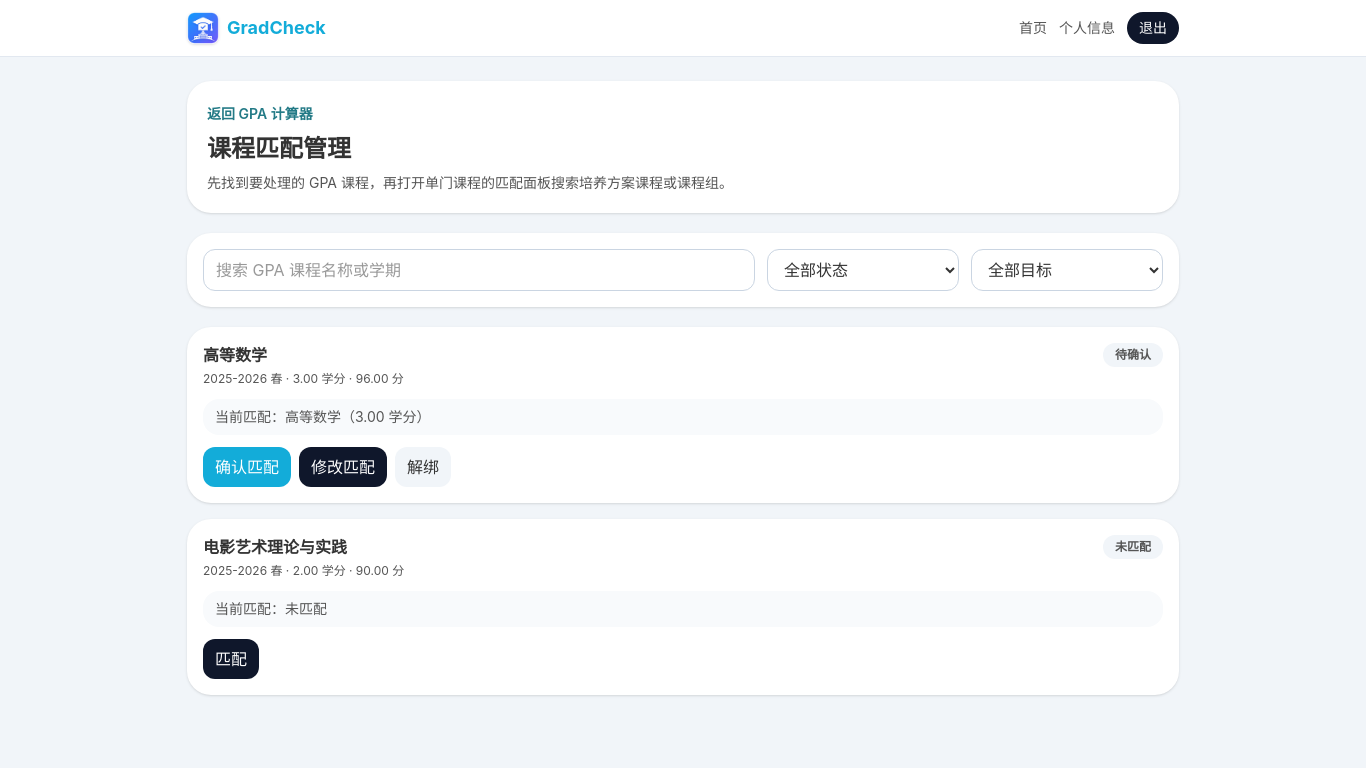
GpaCourseMatchesPage › treats unconfirmed automatic matches as pending review
Expected: the element with test id "gpa-match-list" shows "待确认", [1115, 347, 1151, 362]
Step 1. Select "待处理" in the dropdown with test id "gpa-match-status-filter" → point(863, 270), box [767, 249, 959, 291]
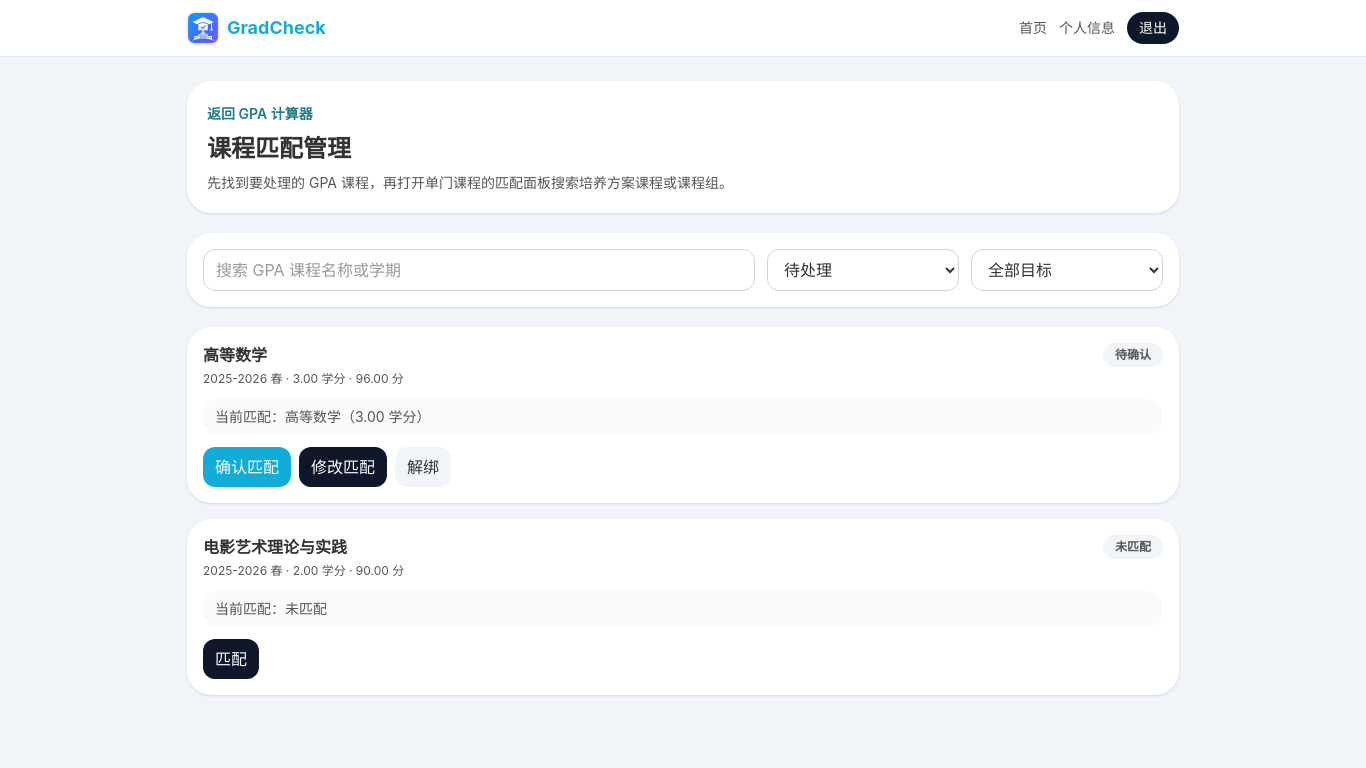
Expected: the element with test id "gpa-match-list" shows "高等数学", [203, 345, 267, 365]
Expected: the element with test id "gpa-match-list" shows "电影艺术理论与实践", [203, 537, 347, 557]
Step 2. Select "已确认" in the dropdown with test id "gpa-match-status-filter" → point(863, 270), box [767, 249, 959, 291]
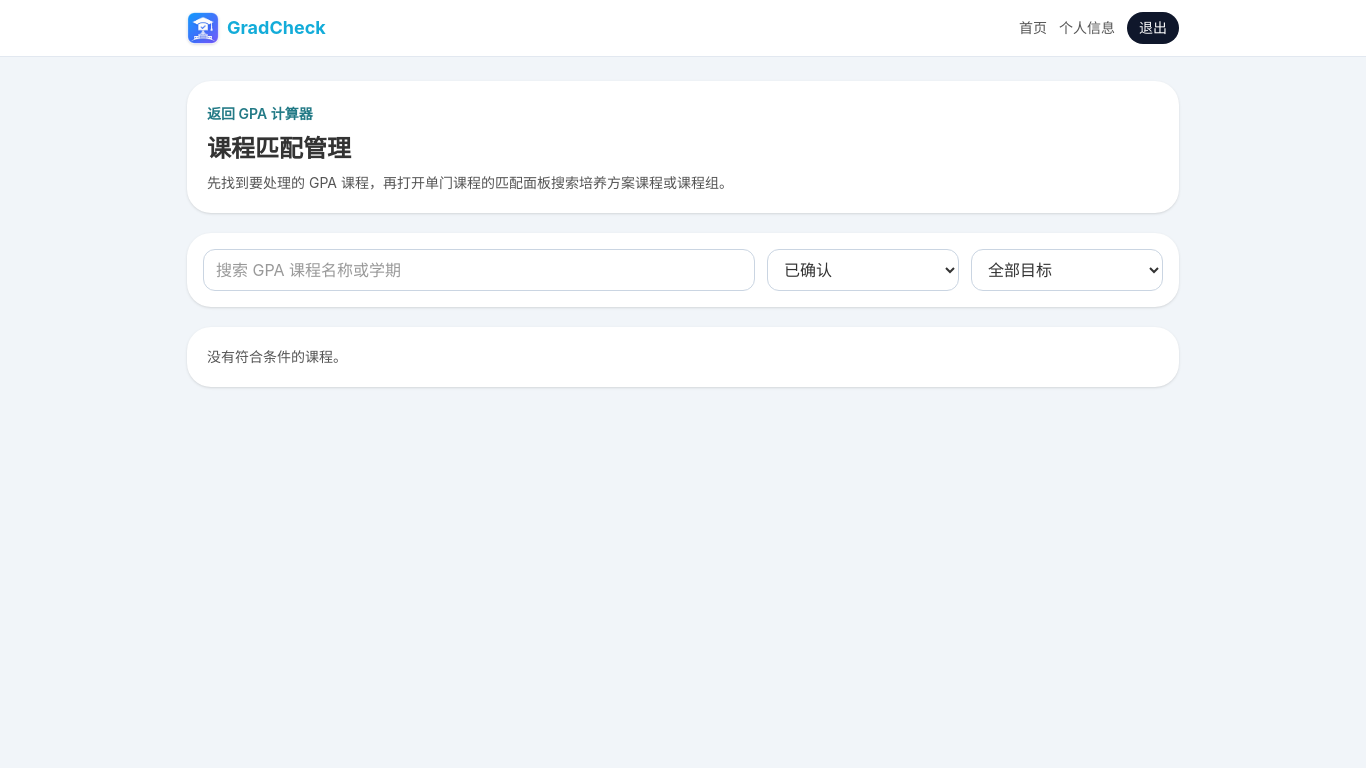
Now the heading with test id "gpa-match-list" no longer shows "高等数学"
Now the heading with test id "gpa-match-list" no longer shows "电影艺术理论与实践"
